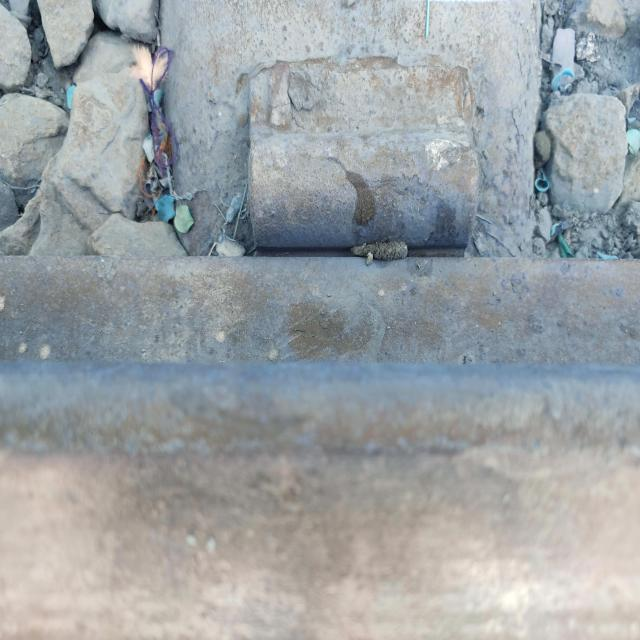Missing Fastener: (138, 38, 569, 307)
